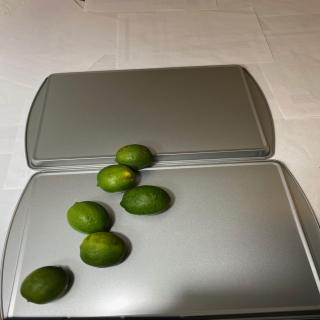Lemon: (20, 266, 69, 304), (80, 231, 126, 268), (120, 185, 171, 215), (66, 200, 110, 234), (96, 164, 136, 193), (115, 144, 153, 170)
